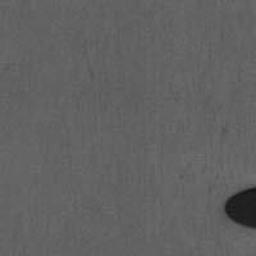Punching: (224, 186, 256, 230)
